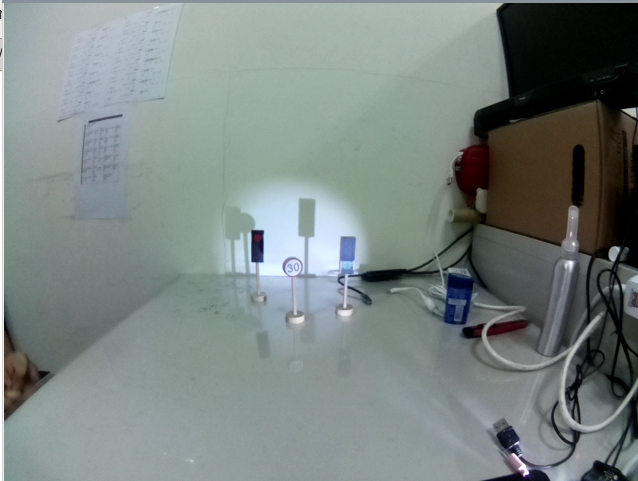Green: (338, 230, 359, 283)
Red: (249, 228, 268, 268)
Speed30: (282, 255, 305, 280)
